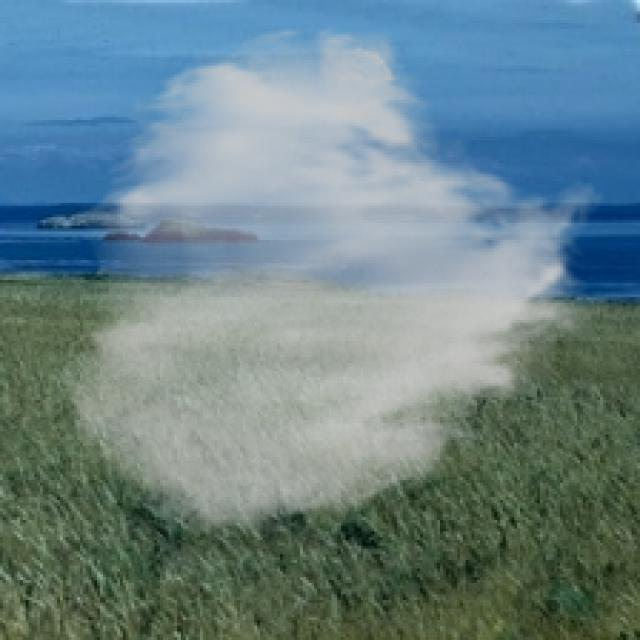Smoke: (60, 23, 606, 540)
